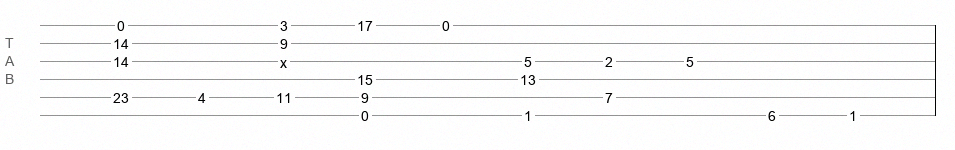0: (117, 18, 125, 28), (361, 108, 369, 118), (442, 18, 450, 28)
1: (524, 108, 532, 118), (849, 108, 857, 118)
11: (276, 90, 292, 100)
13: (520, 72, 536, 82)
14: (113, 36, 129, 46), (113, 54, 129, 64)
15: (357, 72, 373, 82)
17: (357, 18, 373, 28)
2: (605, 54, 613, 64)
23: (113, 90, 129, 100)
3: (280, 18, 288, 28)
4: (198, 90, 206, 100)
5: (524, 54, 532, 64), (686, 54, 694, 64)
6: (768, 108, 776, 118)
7: (605, 90, 613, 100)
9: (280, 36, 288, 46), (361, 90, 369, 100)
x: (280, 55, 287, 63)
